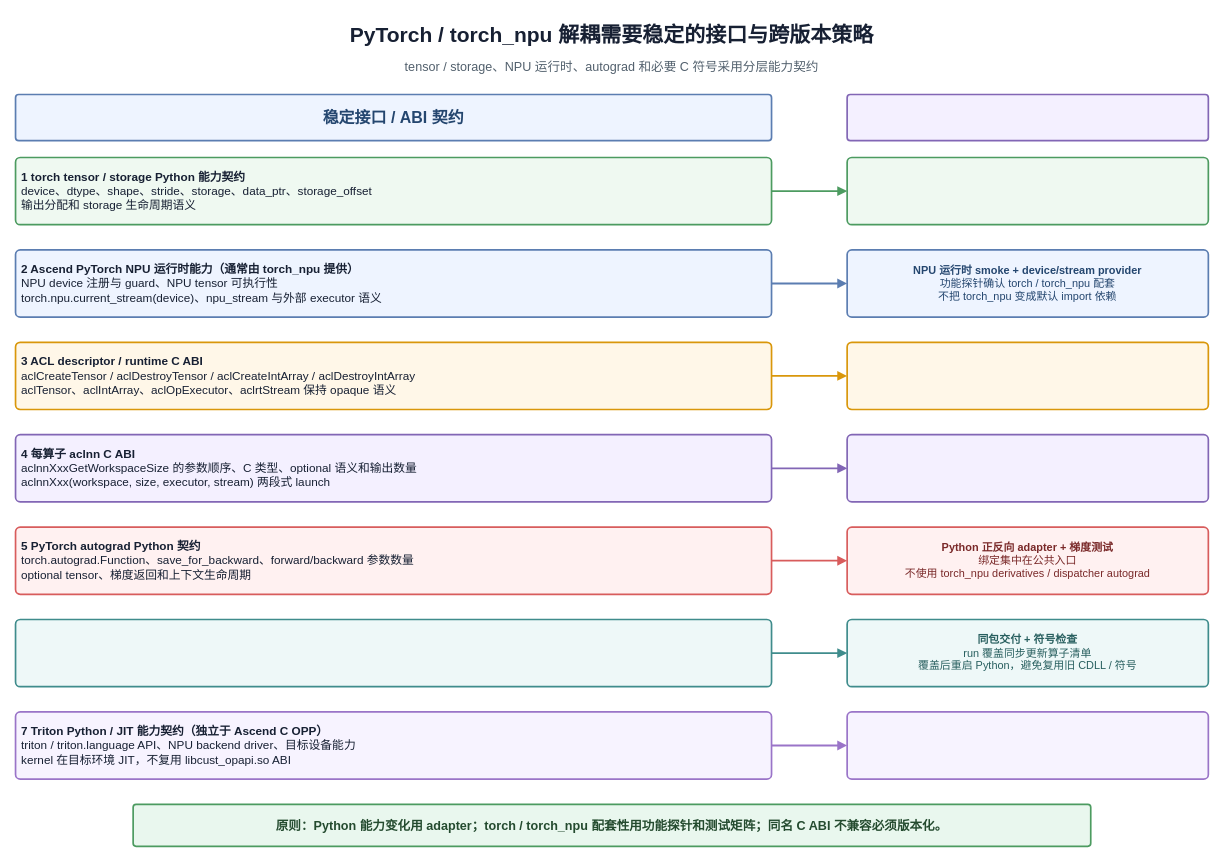
This 1223x861 diagram has some shape labels left out. The centre of each missing label's shape, as x and y in pixels:
"6 OPP 符号加载契约 vendor / 算子名、libcust_opapi.so、必需 aclnn 符号 OPP 搜索优先级和当前进程动态库缓存" belongs at pixel 393 652.
"旧符号签名冻结 不兼容修改发布新符号 / V2 wrapper 按符号选择；header hash 进 CI" belongs at pixel 1027 467.
"版本下限 + capability probe 在目标设备 JIT / smoke test Triton 失败不改变 Ascend C ABI 判定" belongs at pixel 1027 745.
"符号 preflight + runtime adapter 解析必要符号并保持 opaque 生命周期 该层接口稳定，保留符号检查即可" belongs at pixel 1027 375.
"能力探测 + Python adapter 保留 untyped_storage / storage fallback 不按 torch patch 锁版本" belongs at pixel 1027 190.
"跨版本不一致时的策略" belongs at pixel 1027 117.
